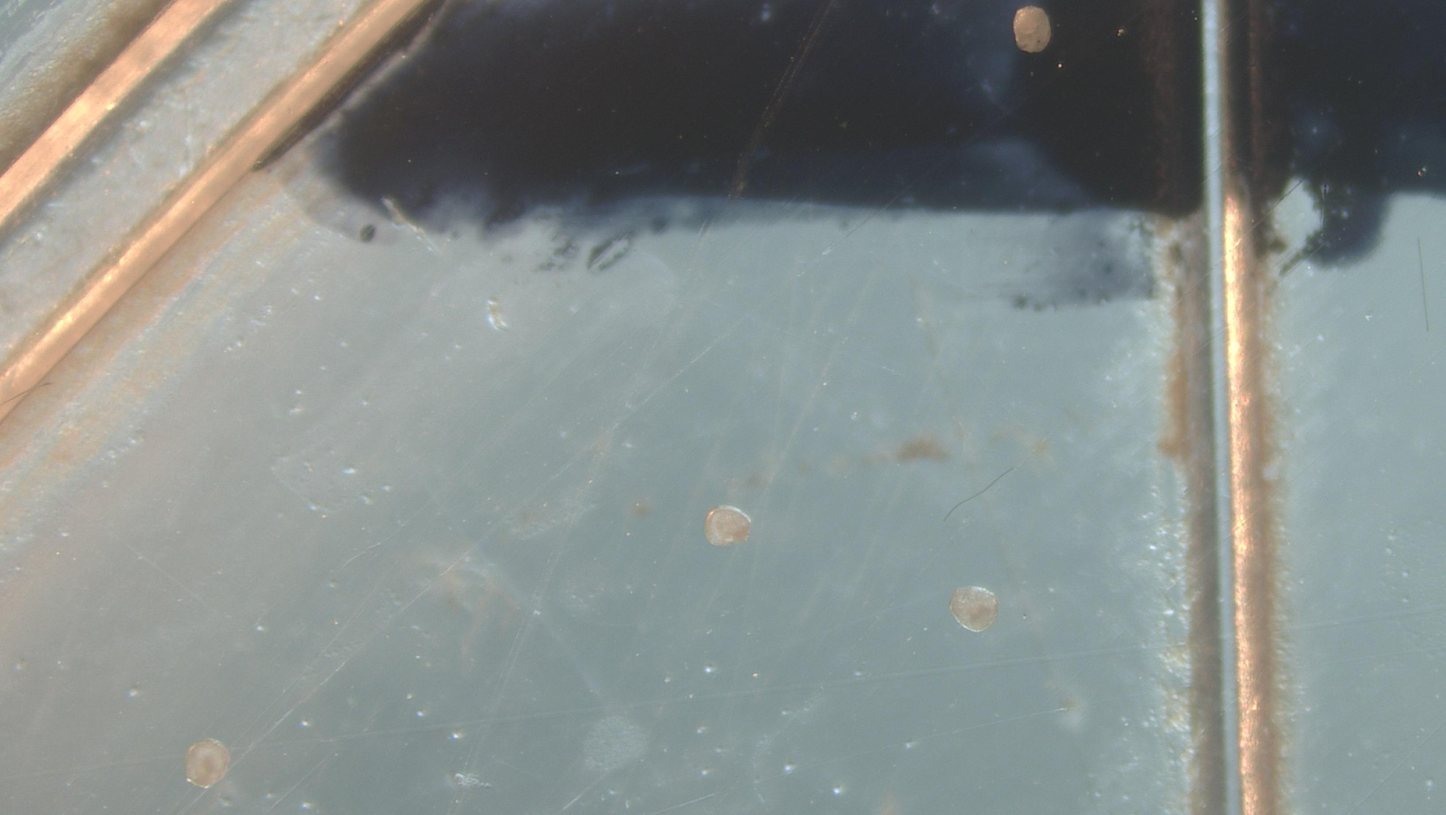live: (949, 587, 998, 633), (184, 739, 230, 788), (704, 506, 752, 547), (1014, 7, 1051, 52)
